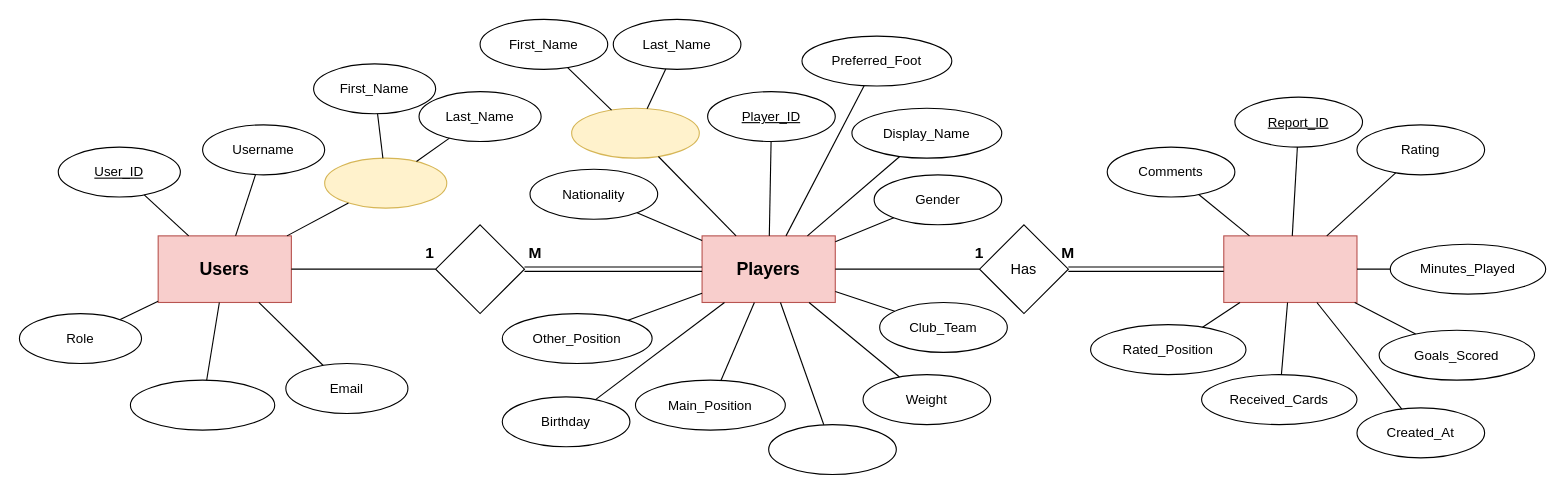
The diagram is 1565 pixels wide and 503 high, and some of its shapes have lost their labels. The centre of each missing label's shape, as x and y in pixels:
"Full_Name" belongs at (635,132).
"Height" belongs at (832,449).
"Name" belongs at (385,182).
"Owns" belongs at (479,269).
"Password_Hash" belongs at (202,404).
"Reports" belongs at (1290,268).
